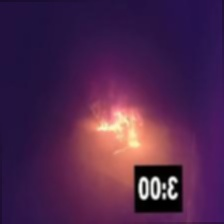fire: (106, 95, 147, 159)
